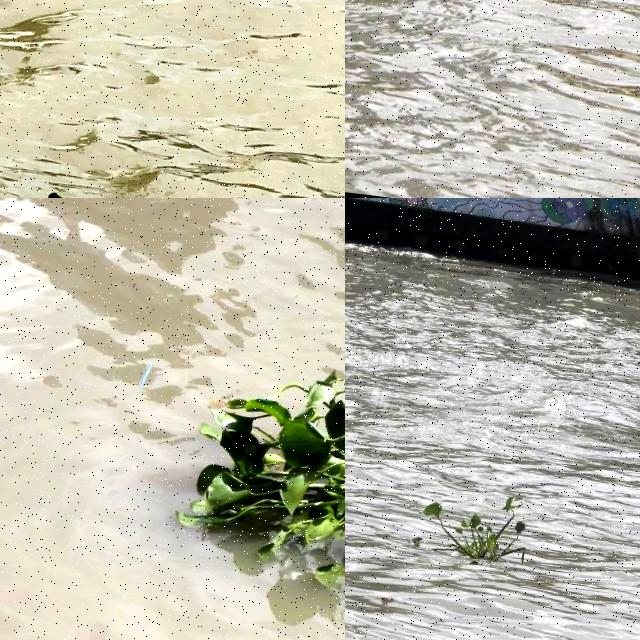water-hyacinth: (171, 335, 346, 620), (410, 482, 541, 579)
